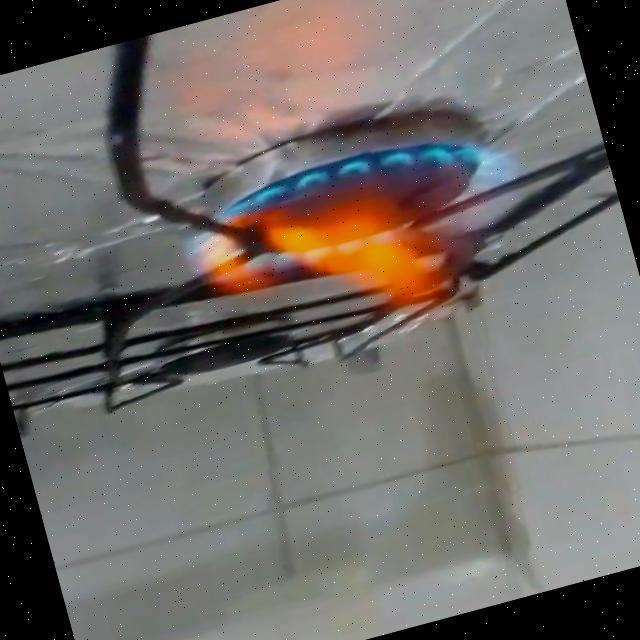fire: (166, 113, 558, 386)
